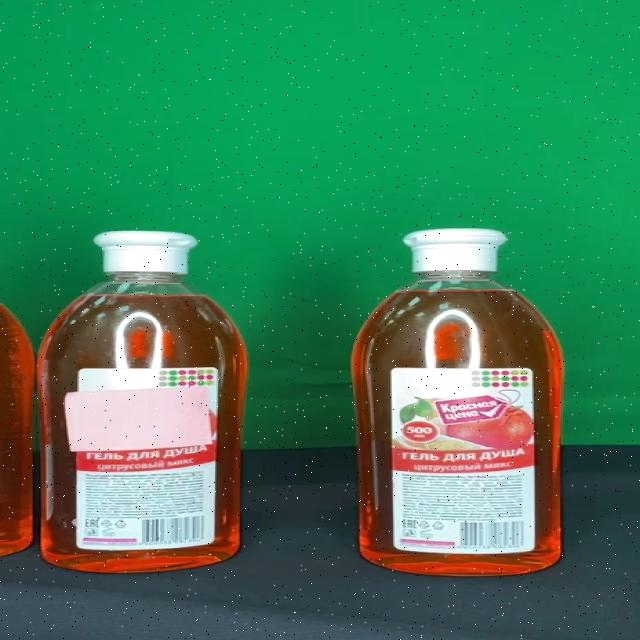Bottle: (349, 227, 566, 576), (35, 230, 252, 573)
Cap: (403, 228, 508, 272), (94, 231, 200, 274)
